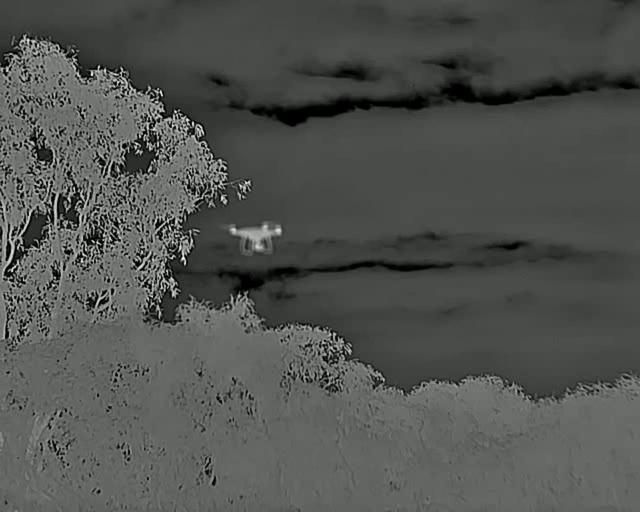DJI-Phantom: (225, 220, 286, 256)
